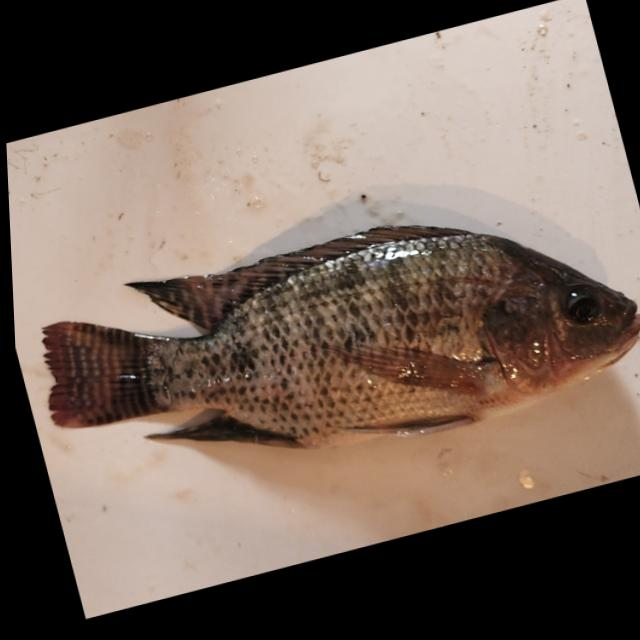Tilapia: (15, 156, 640, 525)
